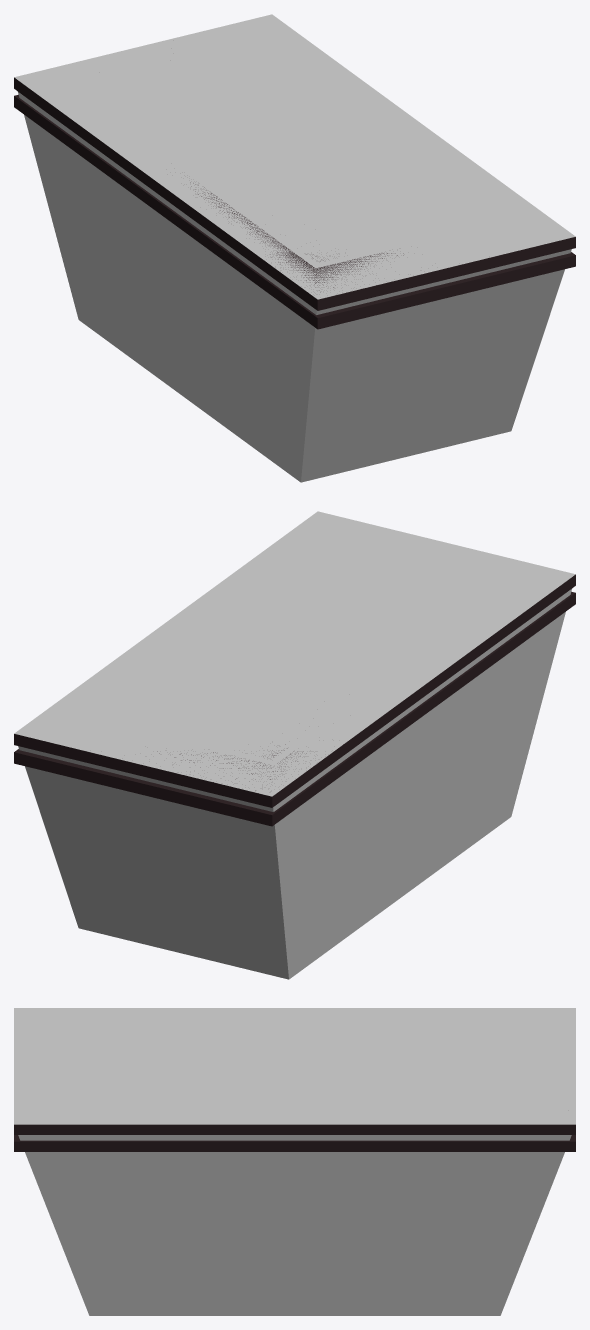
File: SM_Table_05.fbx
The picture shows the model from 3 angles, top to bottom: view 1: azimuth 30°, elevation 25°; view 2: azimuth 150°, elevation 25°; view 3: azimuth 270°, elevation 25°; orthographic projection. The views are drawn at different scales.
Parts seen in each view (by area): view 1: SM_Table_05_ConvexHulls, SM_Table_05; view 2: SM_Table_05_ConvexHulls, SM_Table_05; view 3: SM_Table_05_ConvexHulls, SM_Table_05.
Part boxes in pixels (bbox=[...]): SM_Table_05_ConvexHulls: bbox=[14, 14, 575, 482]; SM_Table_05: bbox=[14, 77, 575, 329]; SM_Table_05_ConvexHulls: bbox=[14, 511, 575, 979]; SM_Table_05: bbox=[14, 574, 575, 826]; SM_Table_05_ConvexHulls: bbox=[14, 1008, 575, 1315]; SM_Table_05: bbox=[14, 1124, 575, 1151].
Size of the model in its own units: 98.12 by 200 by 79.4.
Materials: 2 (1 with a texture image).
